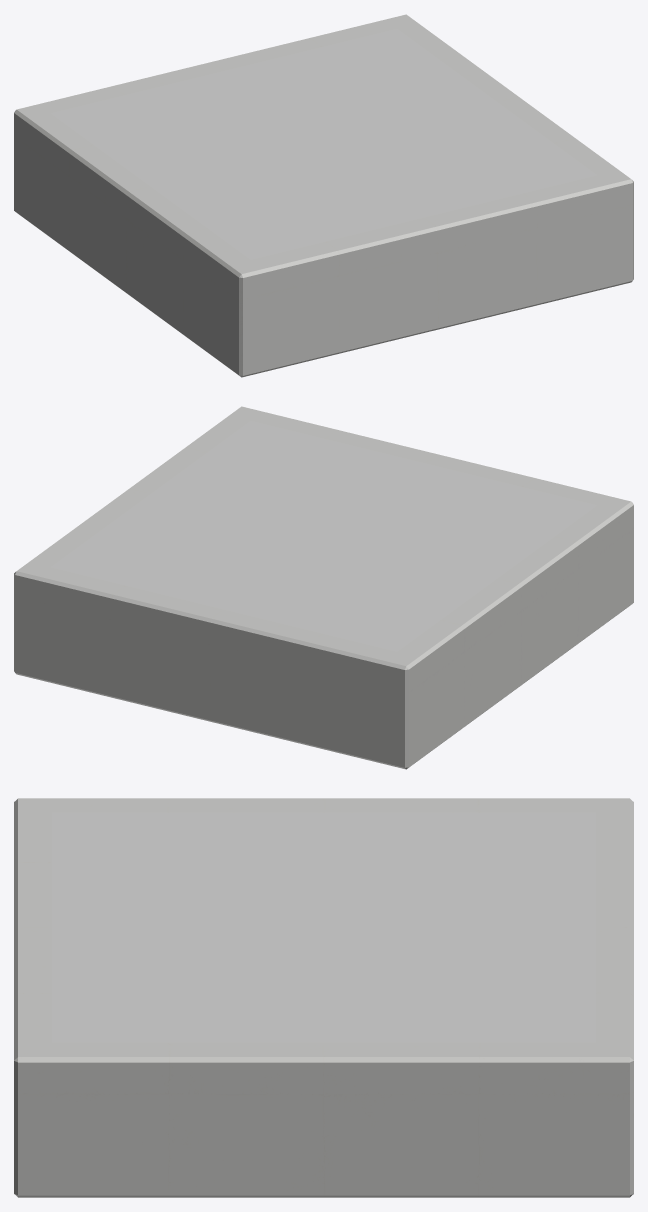
Rendered from PlatformSmallOscY.fbx.
The picture shows the model from 3 angles, top to bottom: view 1: azimuth 30°, elevation 25°; view 2: azimuth 150°, elevation 25°; view 3: azimuth 270°, elevation 25°; orthographic projection. The views are drawn at different scales.
Parts seen in each view (by area): view 1: PlatformSmallOscY_Floor; view 2: PlatformSmallOscY_Floor; view 3: PlatformSmallOscY_Floor.
Part boxes in pixels (bbox=[...]): PlatformSmallOscY_Floor: bbox=[14, 14, 633, 377]; PlatformSmallOscY_Floor: bbox=[14, 406, 633, 769]; PlatformSmallOscY_Floor: bbox=[14, 798, 633, 1197].
Size of the model in its own units: 300 by 75 by 300.
